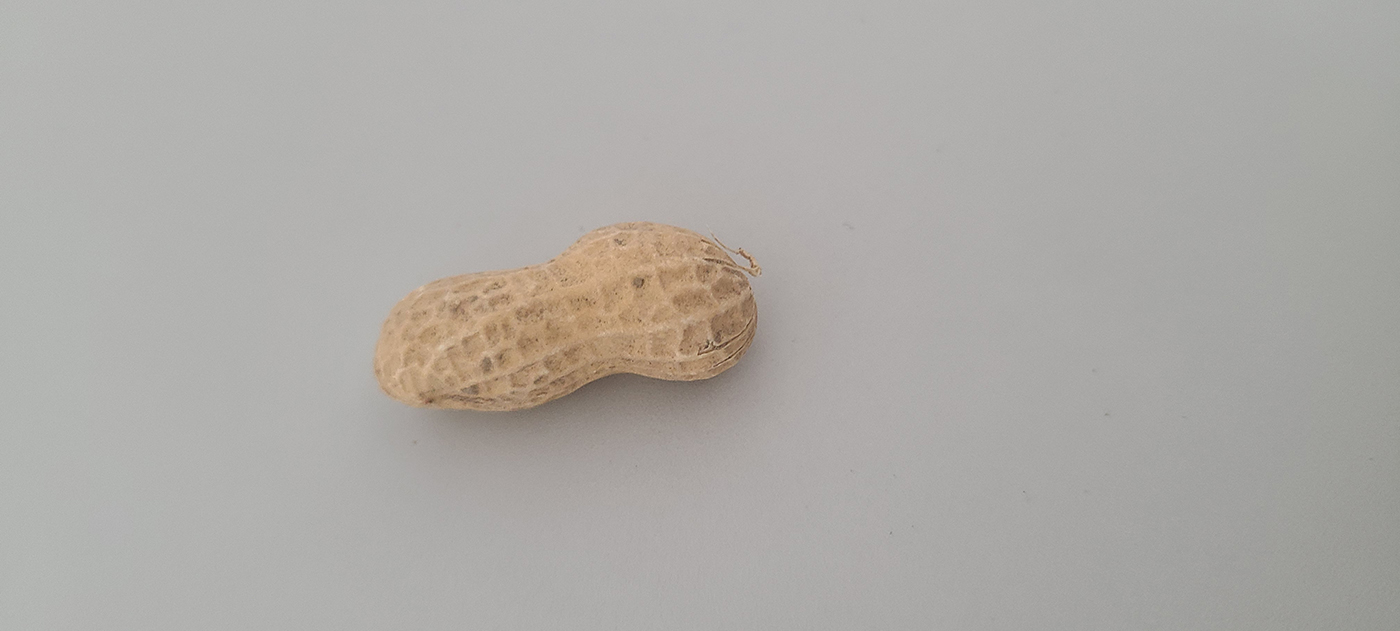h: (371, 218, 759, 414)
